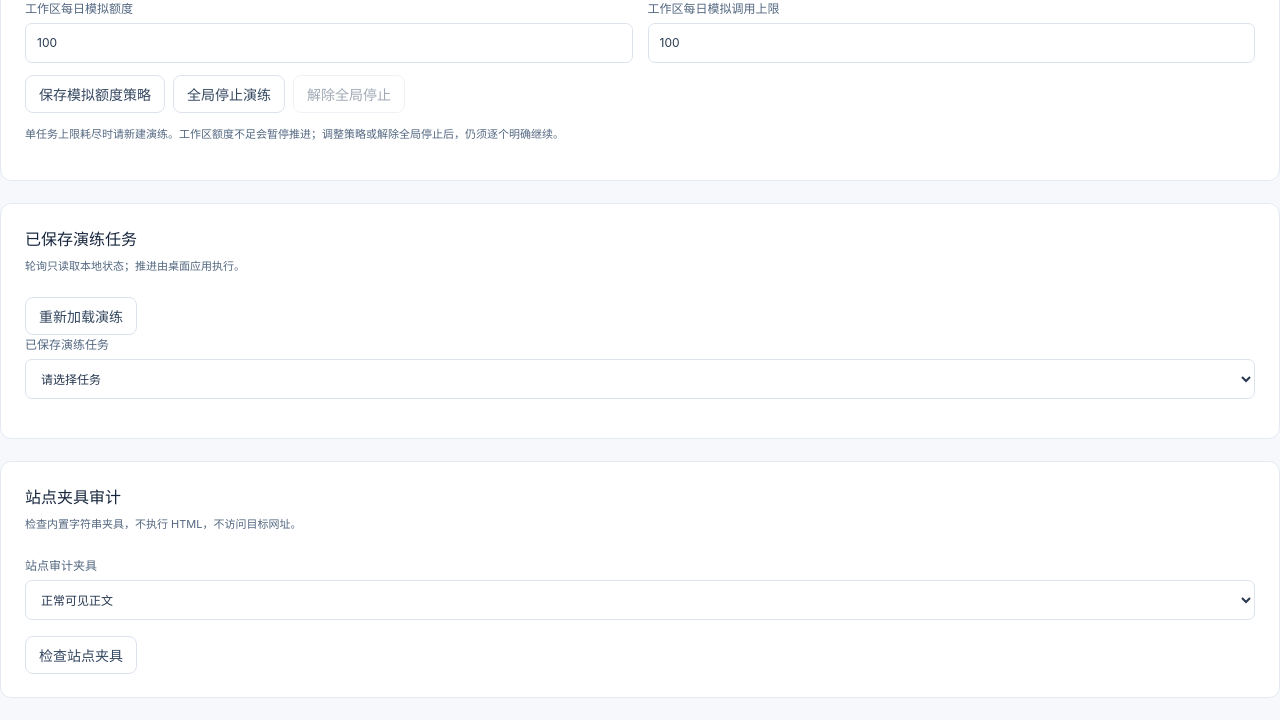
it: disables uncertain mutations until manual reload without replaying them
This screenshot has width=1280, height=720.
(page scrolled)
Select "演练任务 · 已暂停 · v1" in the dropdown labelled "已保存演练任务" at (640, 379), box x1=25 y1=359 x2=1255 y2=399
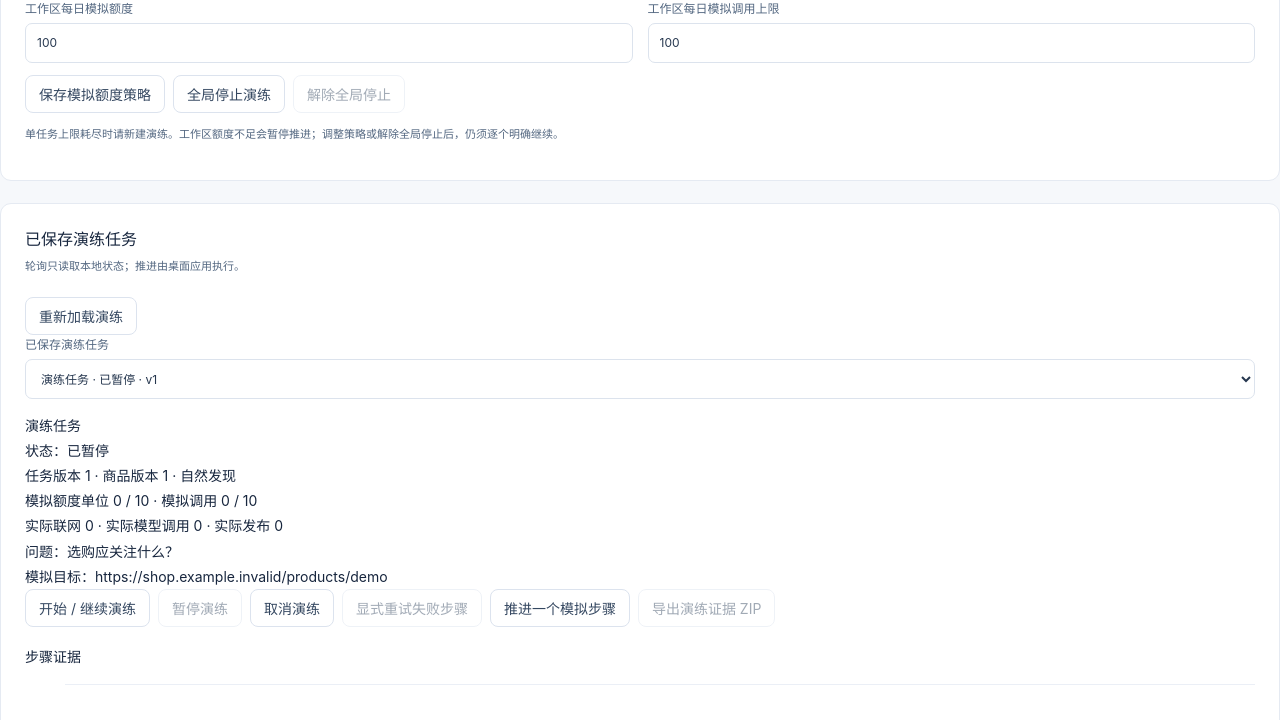
Click the button "开始 / 继续演练" at (87, 608), box x1=25 y1=589 x2=150 y2=627
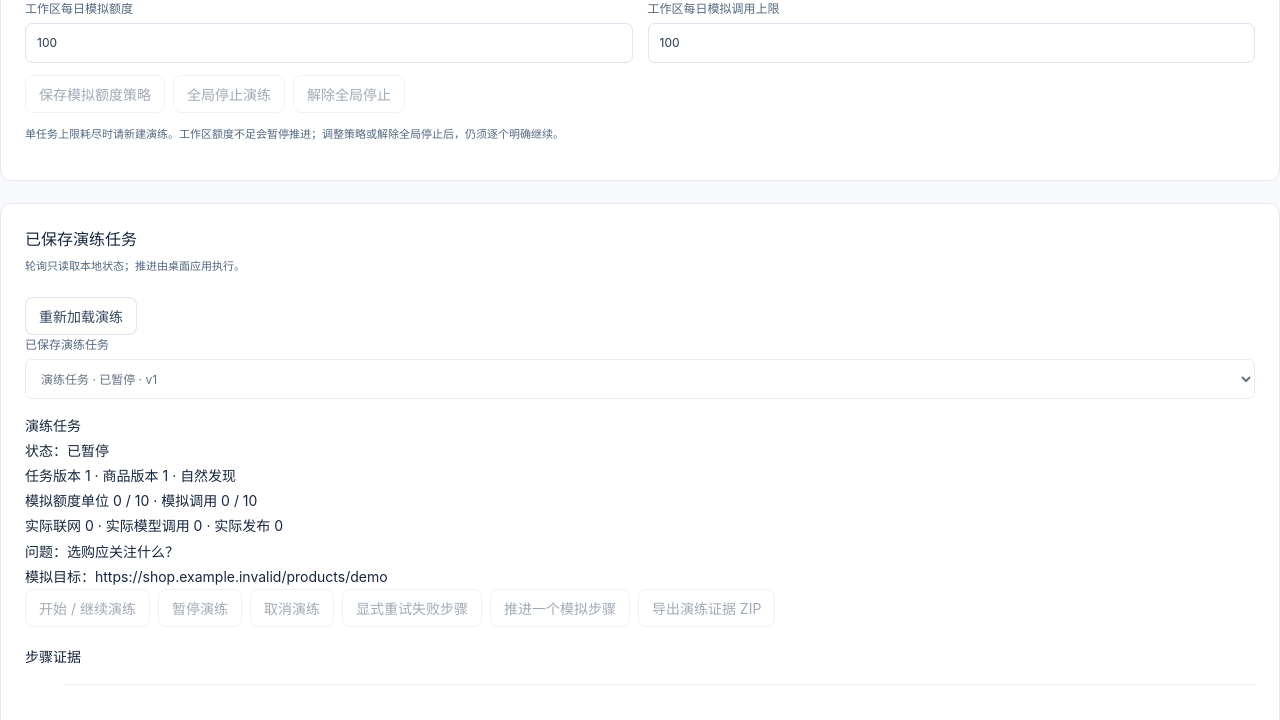
Result: the button "开始 / 继续演练" is disabled at x1=25 y1=589 x2=150 y2=627
Click the button "重新加载演练" at (81, 316), box x1=25 y1=297 x2=137 y2=335
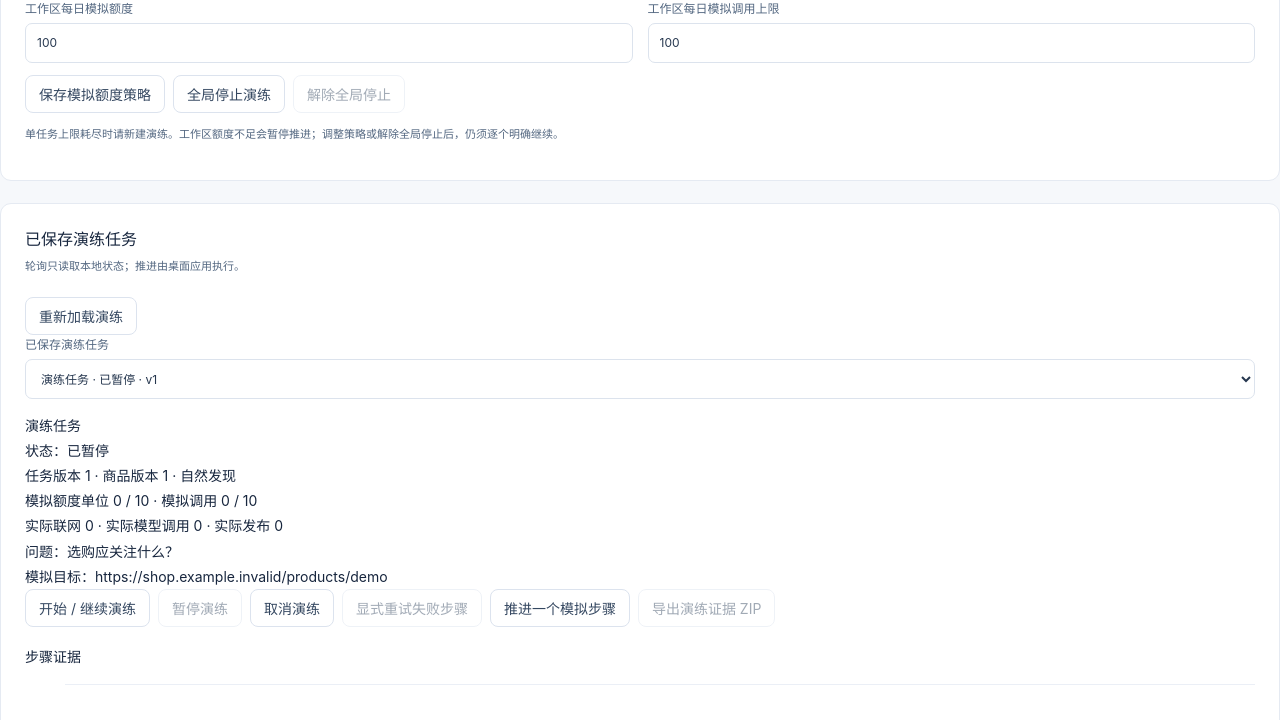
Result: the button "开始 / 继续演练" is enabled at x1=25 y1=589 x2=150 y2=627
